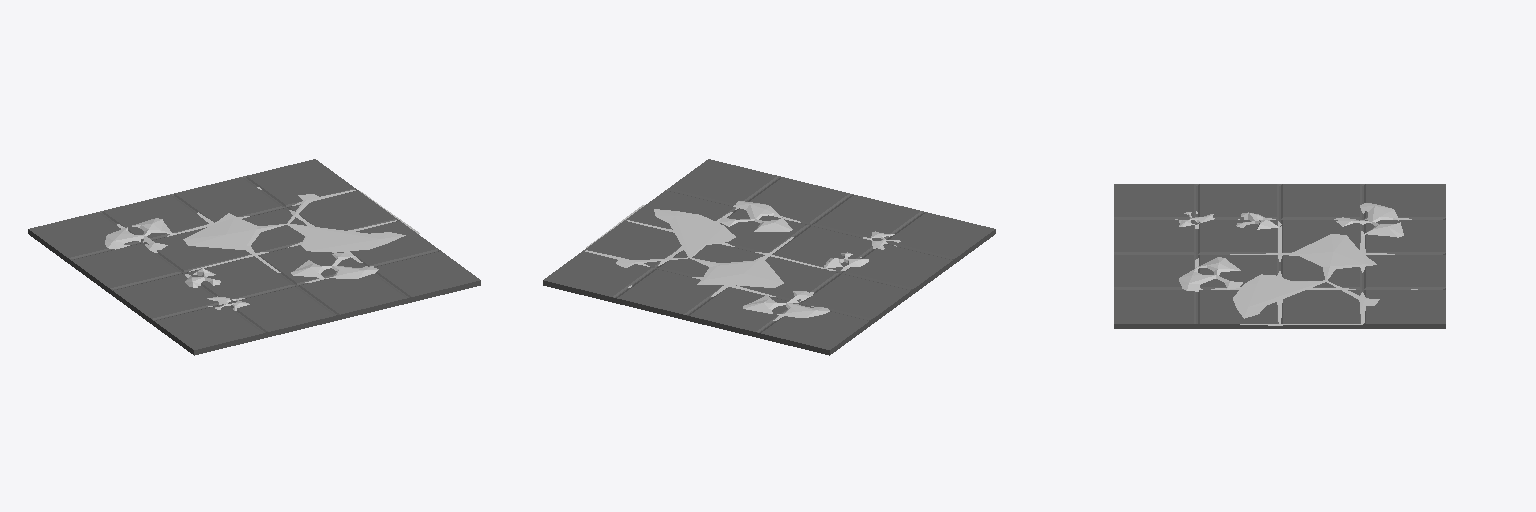
The model's file is Floor.obj.
3 views of the same model, side by side, from view 1: azimuth 30°, elevation 25°; view 2: azimuth 150°, elevation 25°; view 3: azimuth 270°, elevation 25° (orthographic).
Visible parts, largest first — view 1: Cube, Plane.003, Plane.001, Plane; view 2: Cube, Plane.003, Plane.001, Plane; view 3: Cube, Plane.003, Plane.001, Plane.
Boxes of the visible parts, x1=… form: Cube: x1=28, y1=159, x2=480, y2=355; Plane.003: x1=167, y1=187, x2=419, y2=272; Plane.001: x1=105, y1=218, x2=175, y2=252; Plane: x1=291, y1=253, x2=378, y2=282; Cube: x1=543, y1=159, x2=995, y2=355; Plane.003: x1=585, y1=205, x2=824, y2=296; Plane.001: x1=743, y1=291, x2=829, y2=320; Plane: x1=719, y1=201, x2=800, y2=231; Cube: x1=1114, y1=184, x2=1445, y2=328; Plane.003: x1=1211, y1=226, x2=1417, y2=325; Plane.001: x1=1334, y1=203, x2=1411, y2=237; Plane: x1=1179, y1=257, x2=1242, y2=291.
Bounding box in the file's own units: 11.5 × 0.5644 × 11.4.